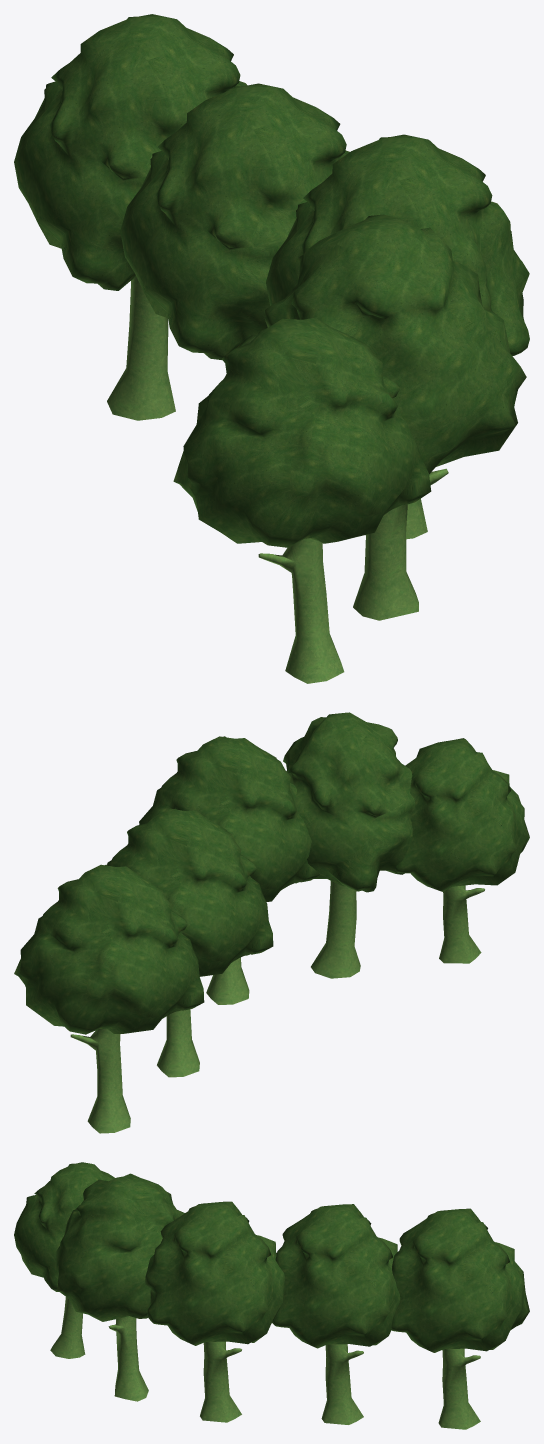
The model's file is SM_ENV_KNFRST_DistanceTreeE_GroupF.FBX.
3 views of the same model, one above another, from view 1: azimuth 30°, elevation 25°; view 2: azimuth 150°, elevation 25°; view 3: azimuth 270°, elevation 25° (orthographic). The views are drawn at different scales.
Visible parts, largest first — view 1: SM_ENV_KNFRST_DistanceTreeE_GroupF; view 2: SM_ENV_KNFRST_DistanceTreeE_GroupF; view 3: SM_ENV_KNFRST_DistanceTreeE_GroupF.
Boxes of the visible parts, x1,y1,x2,y2 form: SM_ENV_KNFRST_DistanceTreeE_GroupF: (14, 14, 529, 683); SM_ENV_KNFRST_DistanceTreeE_GroupF: (14, 712, 529, 1133); SM_ENV_KNFRST_DistanceTreeE_GroupF: (14, 1162, 529, 1429).
Bounding box in the file's own units: 12043 × 10693 × 21748.
